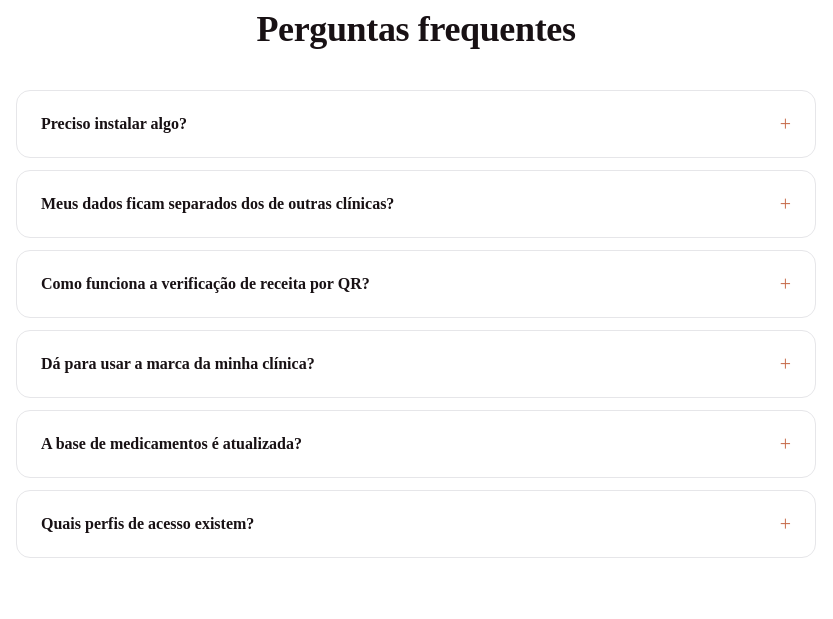
Test case: Faq (integration) › keeps only one answer open at a time
Step 1. Click the button "Preciso instalar algo? +" → {"x": 114, "y": 123}, box [17, 91, 815, 157]
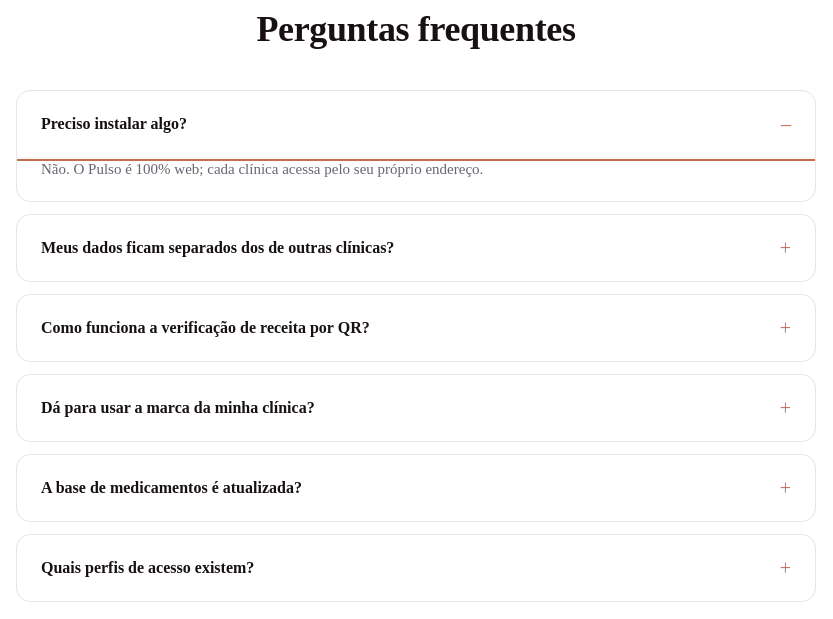
Step 2. Click the button "Meus dados ficam separados dos de outras clínicas? +" → {"x": 218, "y": 247}, box [17, 215, 815, 281]
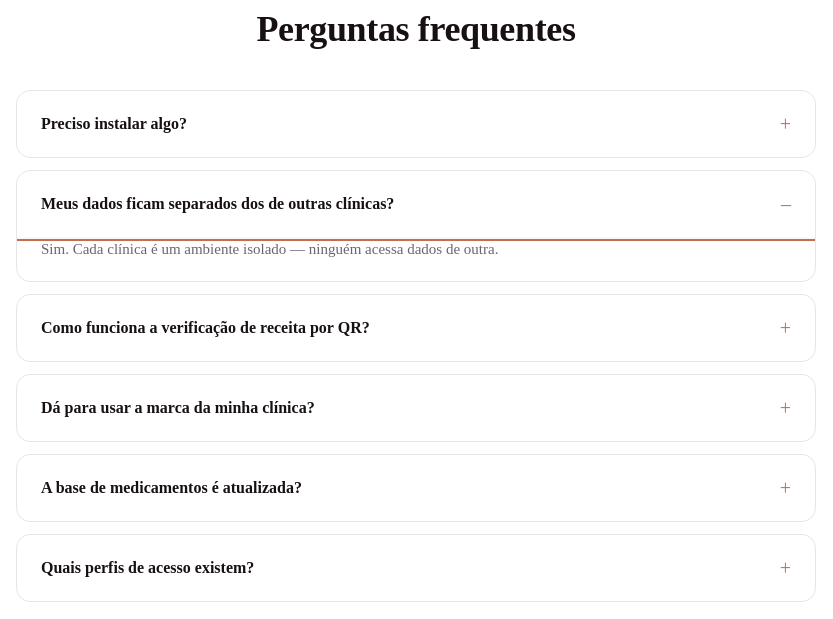
Check: the text "Não. O Pulso é 100% web; cada clínica acessa pelo seu próprio endereço." is gone
Check: the text "Sim. Cada clínica é um ambiente isolado — ninguém acessa dados de outra." is shown, box [41, 241, 498, 257]
